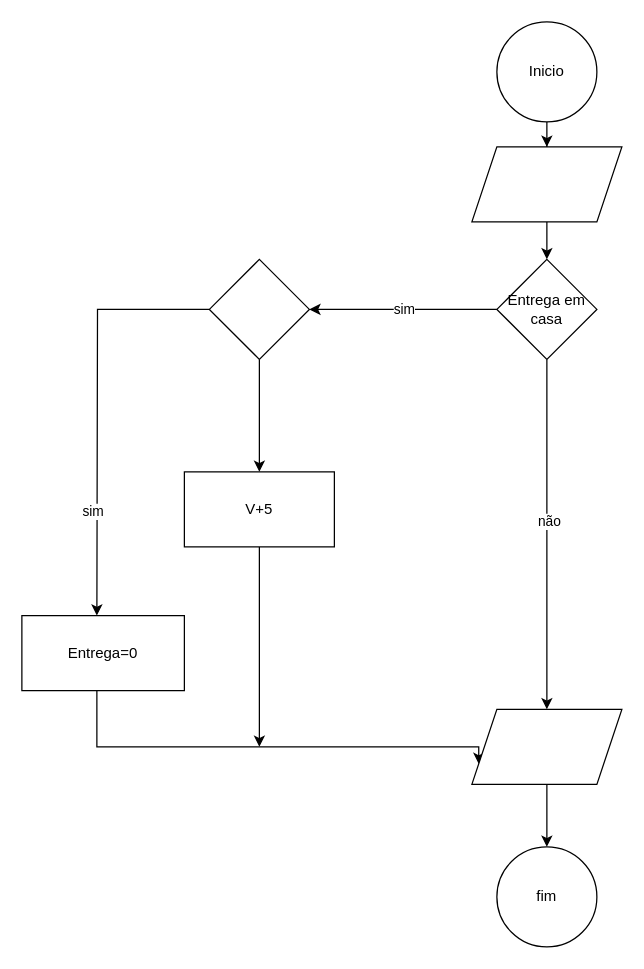
The diagram is 644 pixels wide and 969 high, and some of its shapes have lost their labels. Here are the shapes that lost their labels. From the top down, the centre of each, then its label:
At [546,184]: "Pedir V da encomenda".
At [258,308]: "V>50".
At [546,746]: "Dizer V".
